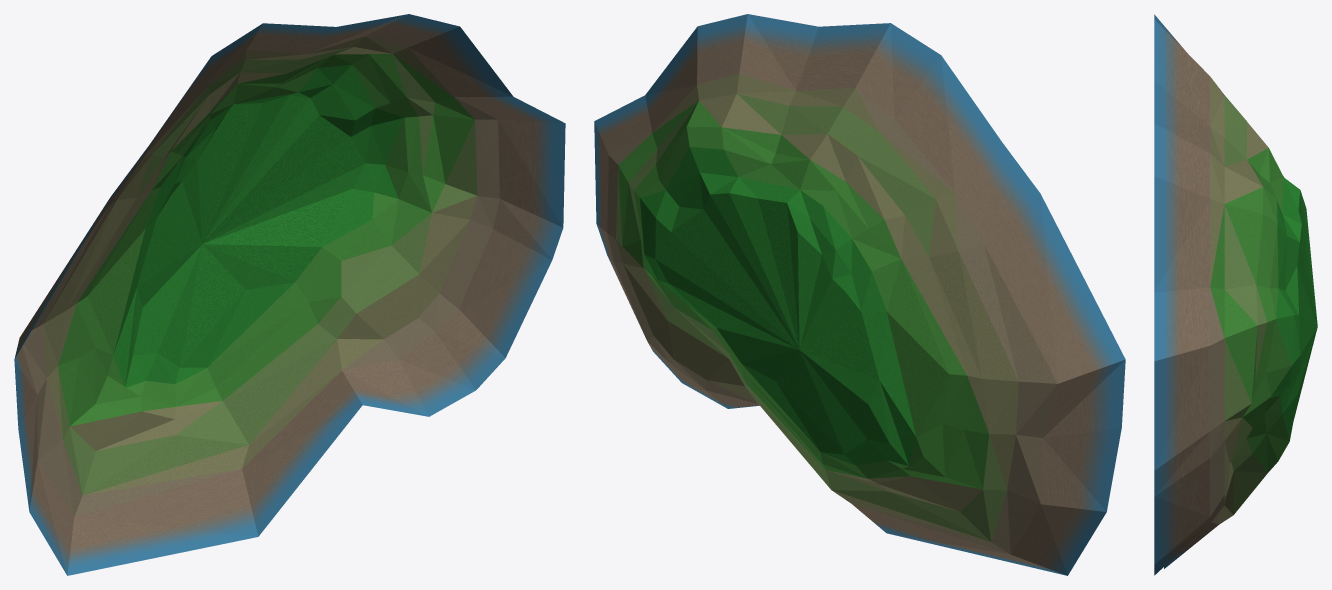
File: green_land_2.FBX
The picture shows the model from 3 angles, left to right: view 1: azimuth 30°, elevation 25°; view 2: azimuth 150°, elevation 25°; view 3: azimuth 270°, elevation 25°; orthographic projection. The views are drawn at different scales.
Parts seen in each view (by area): view 1: Icosphere.001; view 2: Icosphere.001; view 3: Icosphere.001.
Part boxes in pixels (x1,y1,x2,y2): Icosphere.001: [14, 14, 565, 575]; Icosphere.001: [594, 14, 1125, 575]; Icosphere.001: [1154, 14, 1317, 575].
Size of the model in its own units: 2747 by 2482 by 669.
